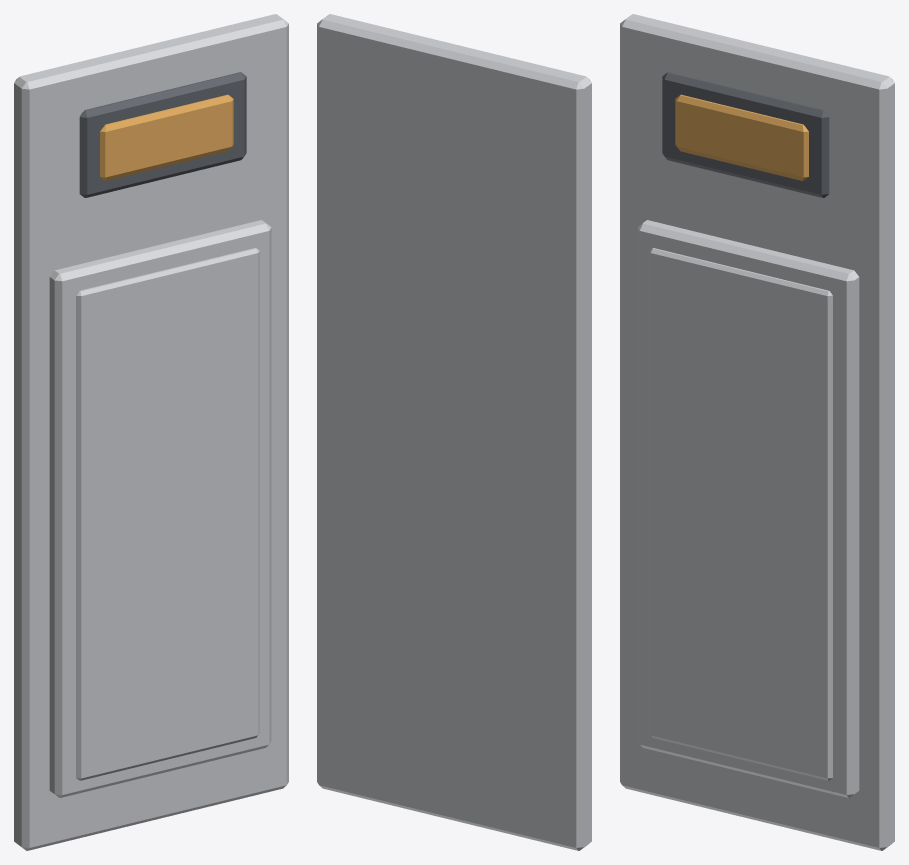
Rendered from office-lobby-and-facilities-lift-call-panel-3c1ca44c__26160.glb.
3 renders of one model, left to right at view 1: azimuth 30°, elevation 25°; view 2: azimuth 150°, elevation 25°; view 3: azimuth 330°, elevation 25°, orthographic.
Visible parts, largest first — view 1: lift-call-panel; view 2: lift-call-panel; view 3: lift-call-panel.
Boxes of the visible parts, box(x1,y1,x2,y2) form: lift-call-panel: box(14, 14, 288, 850); lift-call-panel: box(317, 14, 591, 850); lift-call-panel: box(620, 14, 894, 850).
Bounding box in the file's own units: 0.16 × 0.44 × 0.026.
